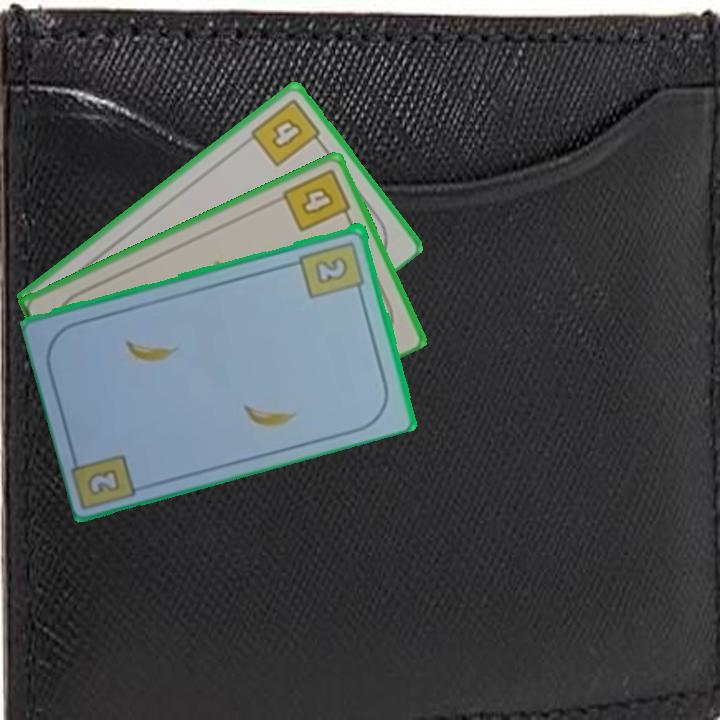2b: (297, 237, 368, 301), (83, 464, 124, 499)
4b: (246, 95, 328, 169), (279, 164, 355, 234)
